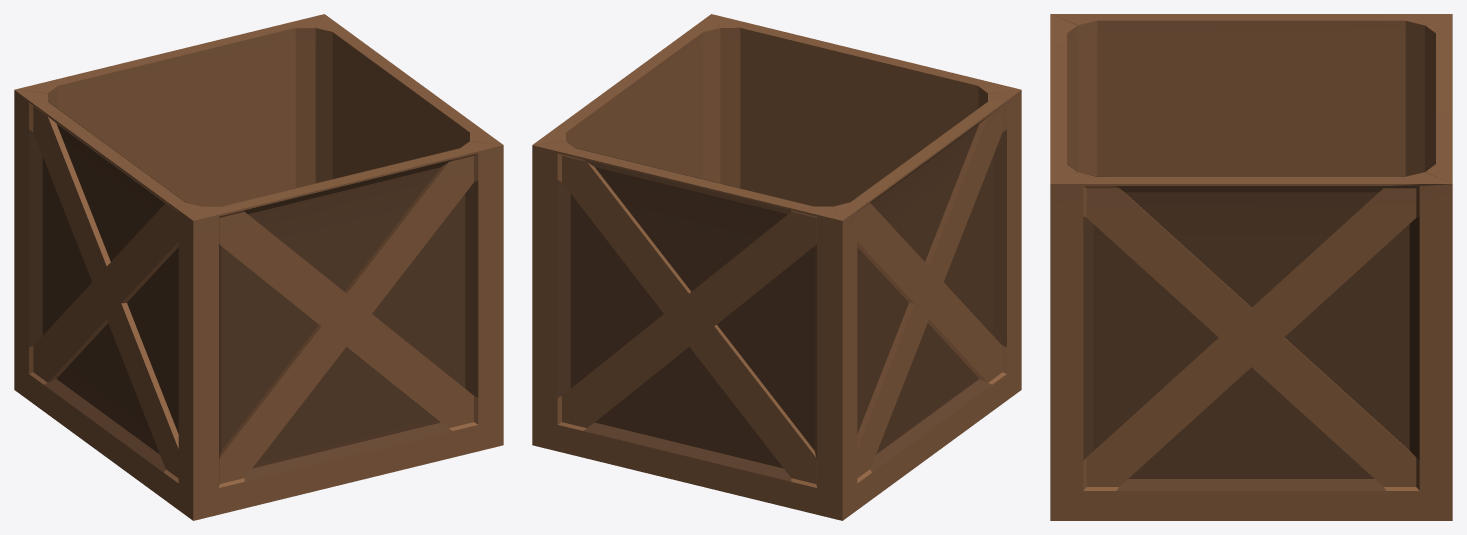
File: Wooden Box (Open-Box).fbx
3 views of the same model, side by side, from view 1: azimuth 30°, elevation 25°; view 2: azimuth 150°, elevation 25°; view 3: azimuth 270°, elevation 25° (orthographic). The views are drawn at different scales.
Visible parts, largest first — view 1: Cube.005; view 2: Cube.005; view 3: Cube.005.
Boxes of the visible parts, left/top/right/bottom form: Cube.005: left=14, top=14, right=503, bottom=520; Cube.005: left=532, top=14, right=1021, bottom=520; Cube.005: left=1050, top=14, right=1452, bottom=520.
Size of the model in its own units: 2 by 2 by 1.85.
1 material, 1 textured.
